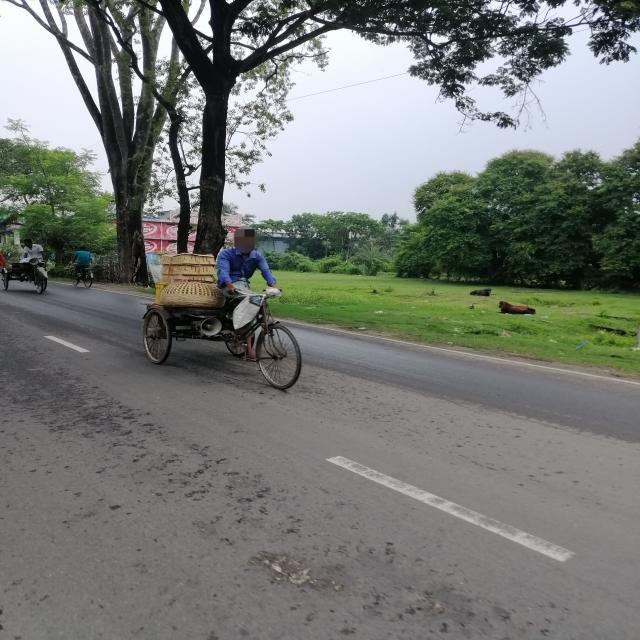Van: (140, 288, 312, 404)
